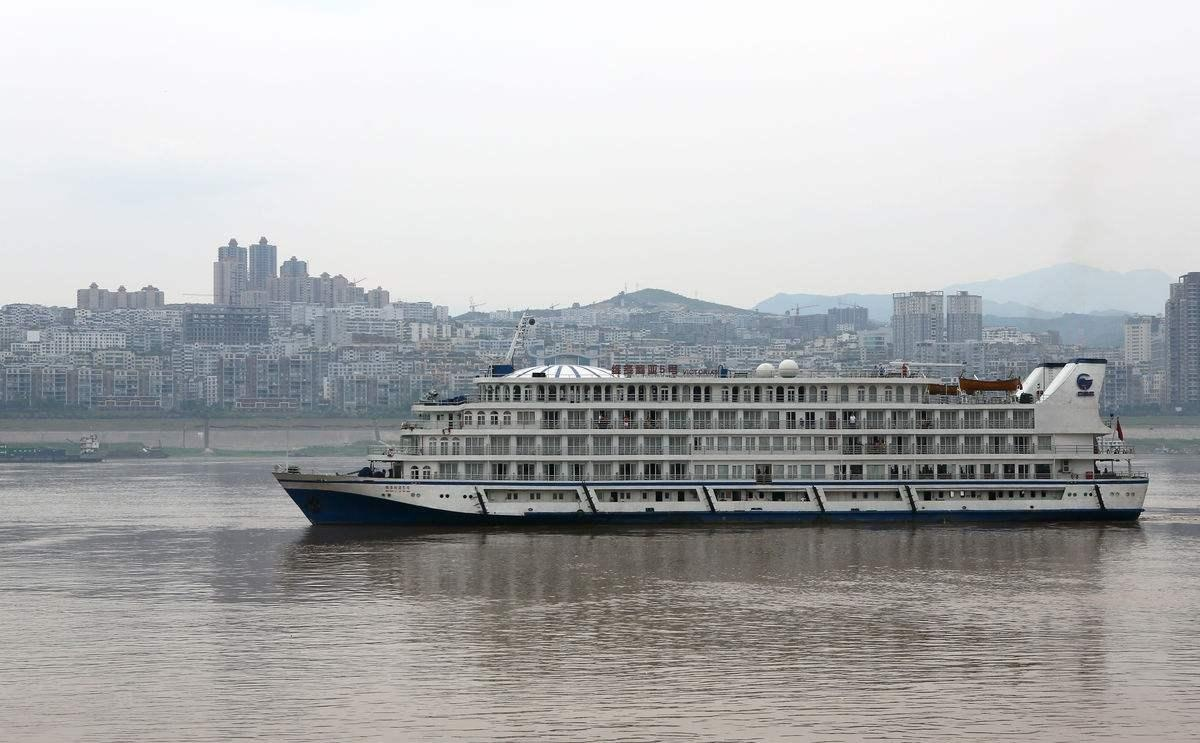youlun: (265, 340, 1159, 531)
